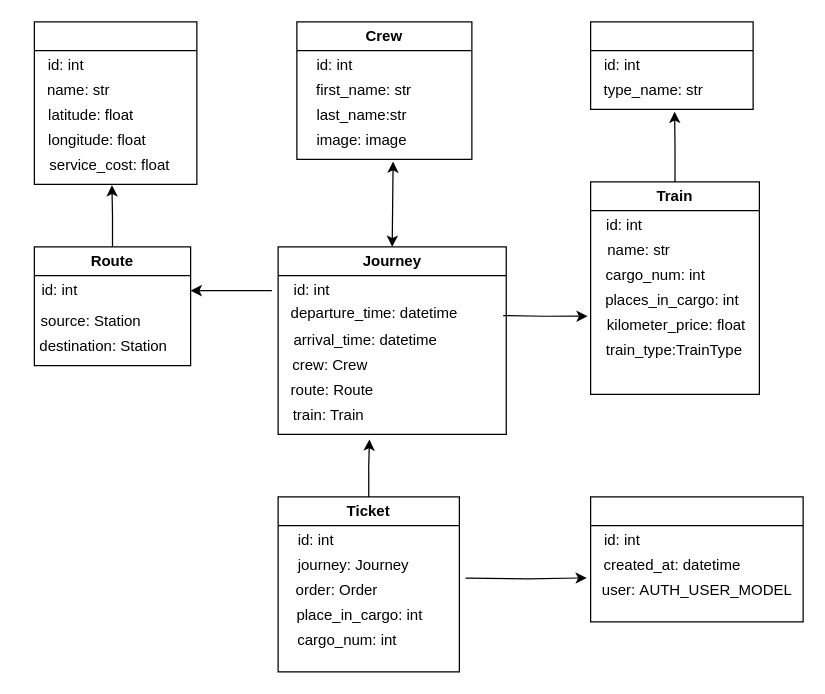
Some shapes in this 825 by 694 pixel diagram are drawn without their labels. Each missing label, with the box of its shape:
Order: (589, 496, 803, 622)
Station: (33, 21, 197, 184)
TrainType: (589, 21, 753, 109)
